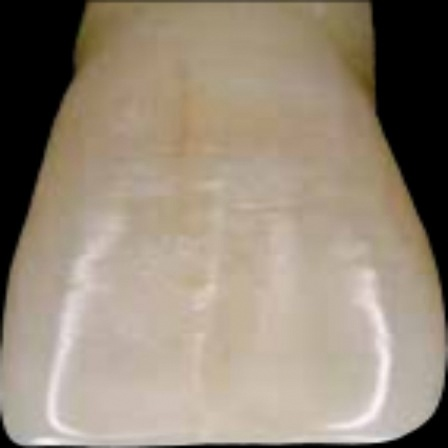coin_1: (77, 73, 97, 93)
coin_2: (17, 245, 37, 265)
coin_3: (373, 112, 393, 132)
coin_4: (428, 236, 448, 256)
